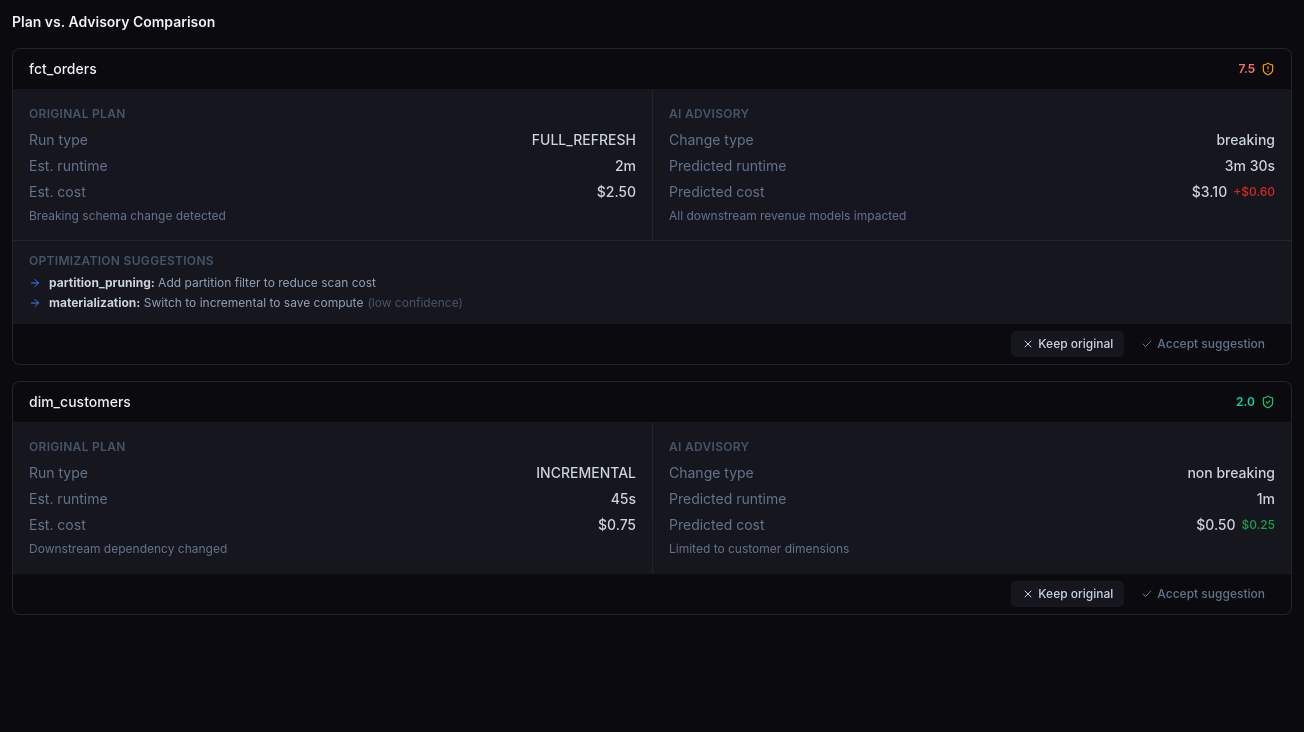
it: PlanComparison › toggles acceptance off when "Keep original" is clicked after accepting
# Accept first
Click the button "Accept suggestion" below "All downstream revenue models impacted".
click(1203, 344)  # box [1131,332,1275,356]
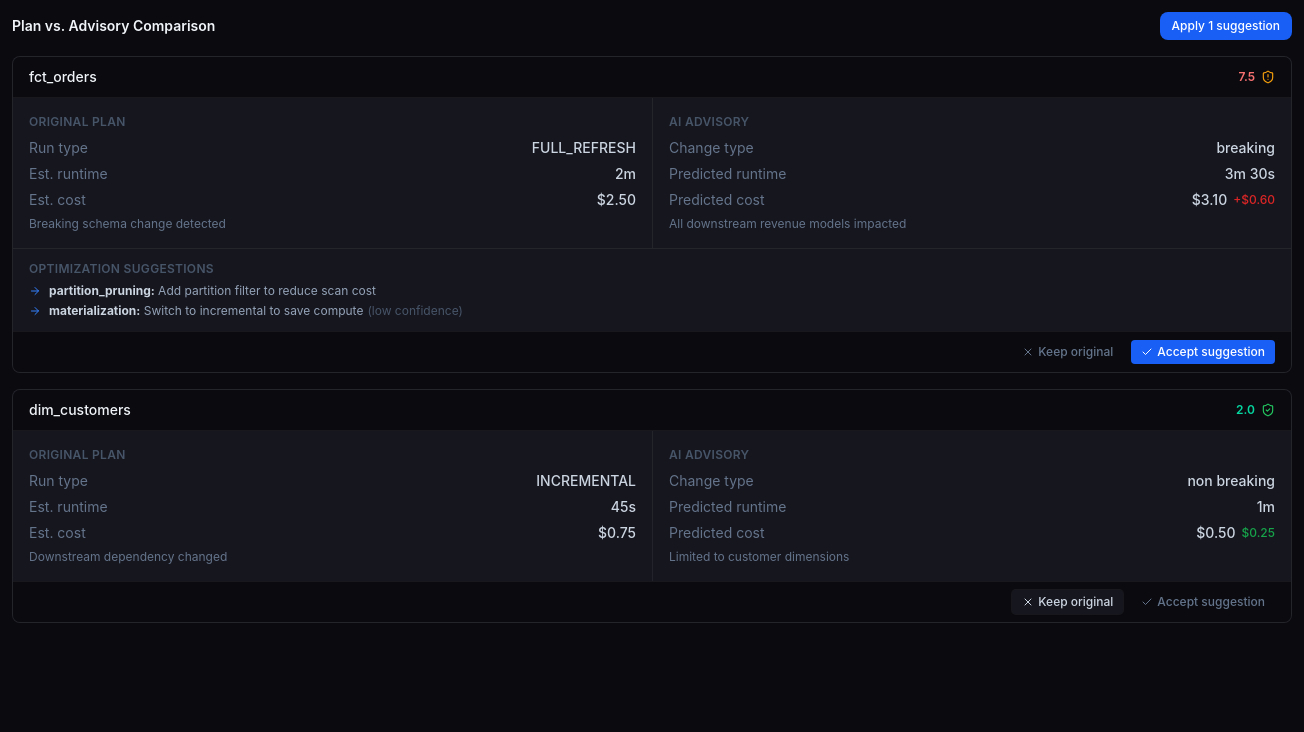
Check: the button "Apply 1 suggestion" is shown, box [1160,12,1292,40]
# Now click "Keep original" to toggle it off
Click the button "Keep original" below "All downstream revenue models impacted".
click(1068, 352)  # box [1012,340,1123,364]
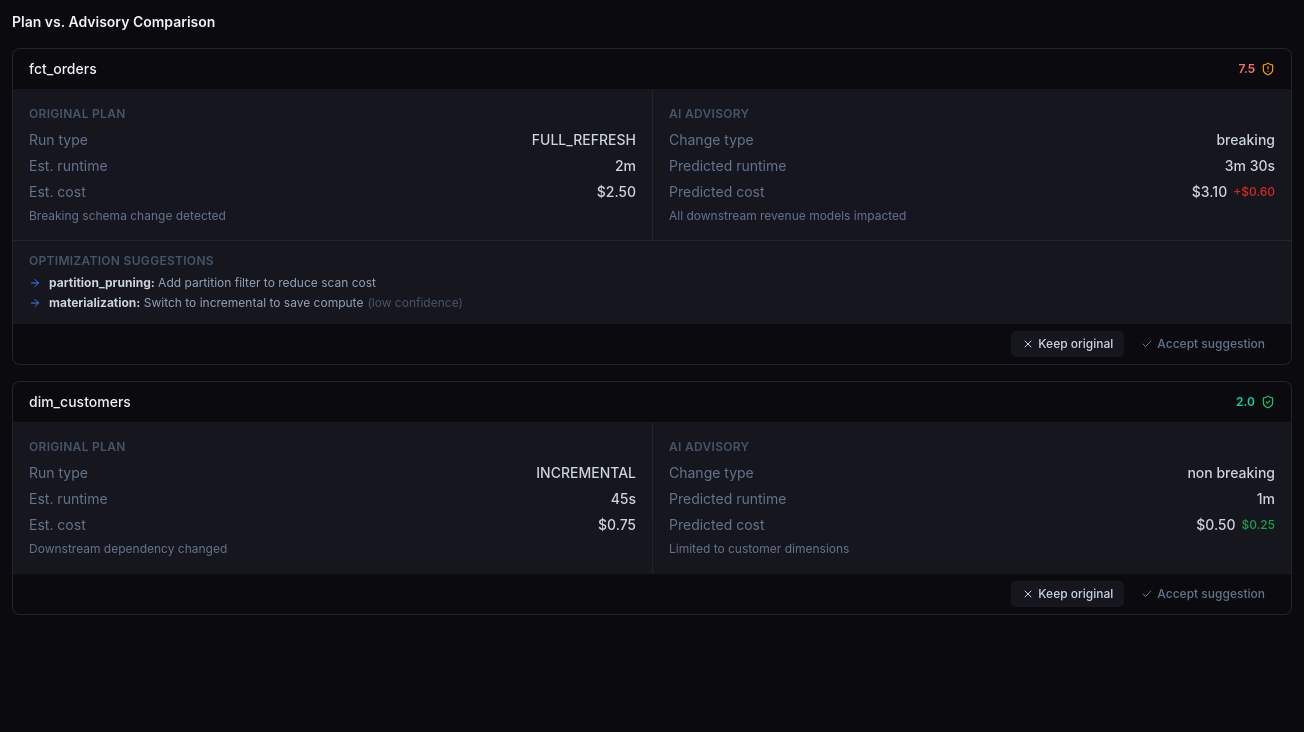
Check: the button "Apply 1 suggestion" is gone
